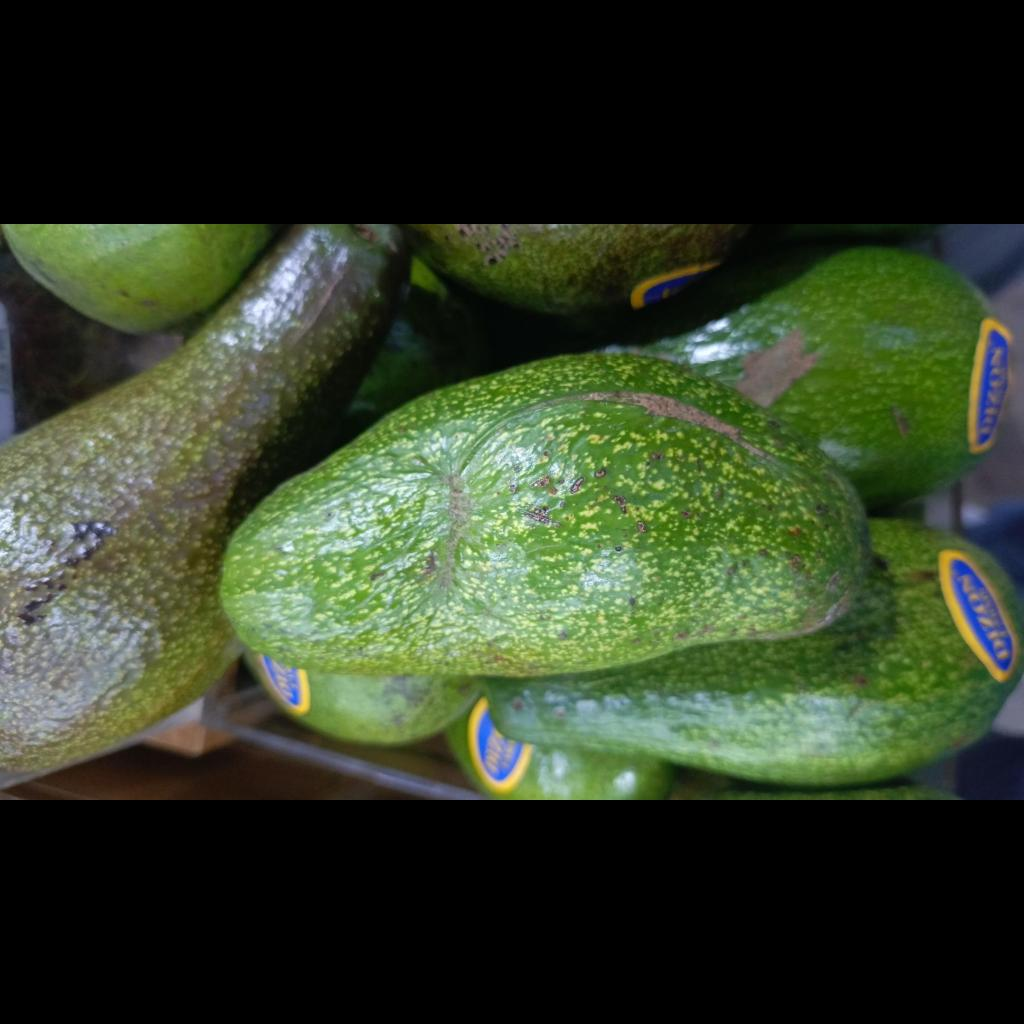fruto_sano: (222, 354, 870, 676)
